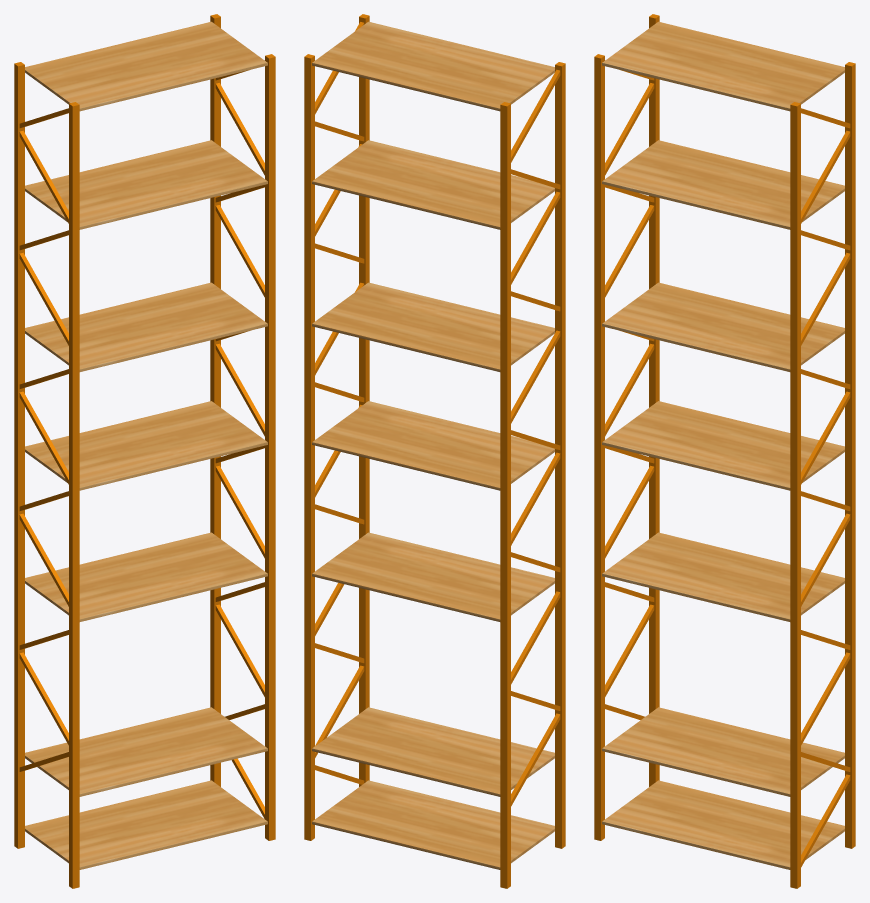
The model's file is Industrial_Rack_03.fbx.
3 renders of one model, left to right at view 1: azimuth 30°, elevation 25°; view 2: azimuth 150°, elevation 25°; view 3: azimuth 330°, elevation 25°, orthographic.
Parts seen in each view (by area): view 1: Industrial_Rack_03; view 2: Industrial_Rack_03; view 3: Industrial_Rack_03.
Boxes of the visible parts, x1,y1,x2,y2 form: Industrial_Rack_03: (14,14,275,888); Industrial_Rack_03: (304,14,565,888); Industrial_Rack_03: (594,14,855,888).
Size of the model in its own units: 2 by 7.37 by 1.
